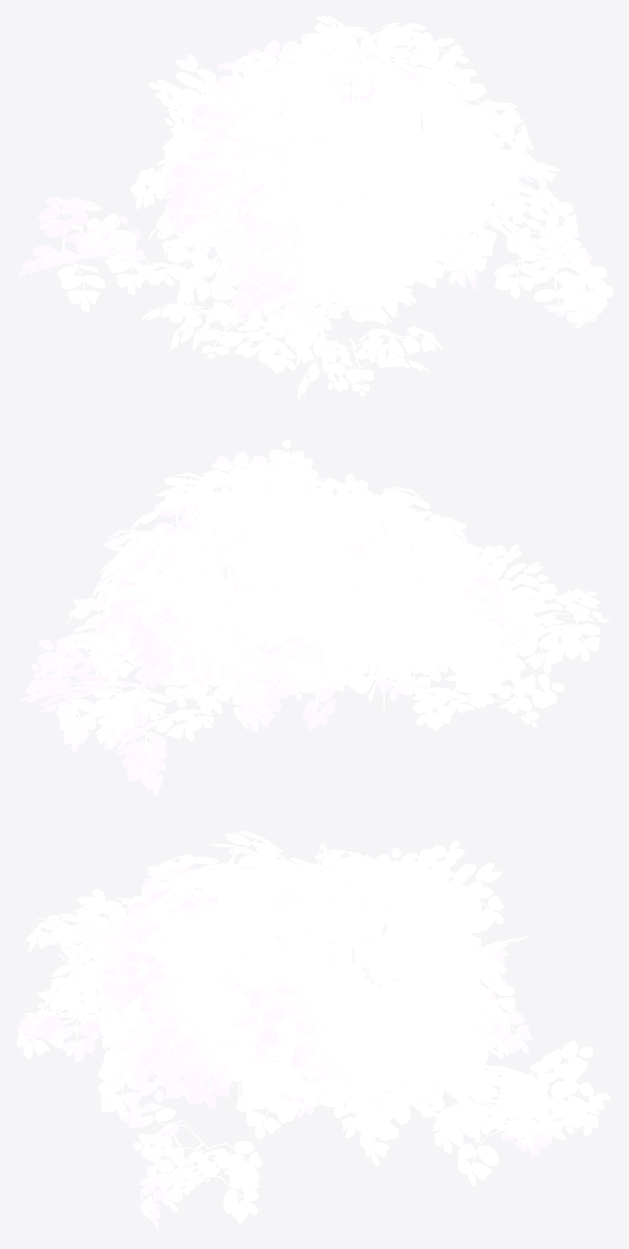
The picture shows the model from 3 angles, top to bottom: view 1: azimuth 30°, elevation 25°; view 2: azimuth 150°, elevation 25°; view 3: azimuth 270°, elevation 25°; orthographic projection. The views are drawn at different scales.
Parts seen in each view (by area): view 1: SM_GF_Medium_Bush_01_C_Woods_LOD0; view 2: SM_GF_Medium_Bush_01_C_Woods_LOD0; view 3: SM_GF_Medium_Bush_01_C_Woods_LOD0.
Boxes of the visible parts, bbox=[...] form: SM_GF_Medium_Bush_01_C_Woods_LOD0: bbox=[18, 15, 613, 399]; SM_GF_Medium_Bush_01_C_Woods_LOD0: bbox=[21, 439, 610, 795]; SM_GF_Medium_Bush_01_C_Woods_LOD0: bbox=[16, 830, 610, 1229].
Size of the model in its own units: 2.24 by 1.1 by 2.06.
1 material, 1 textured.
